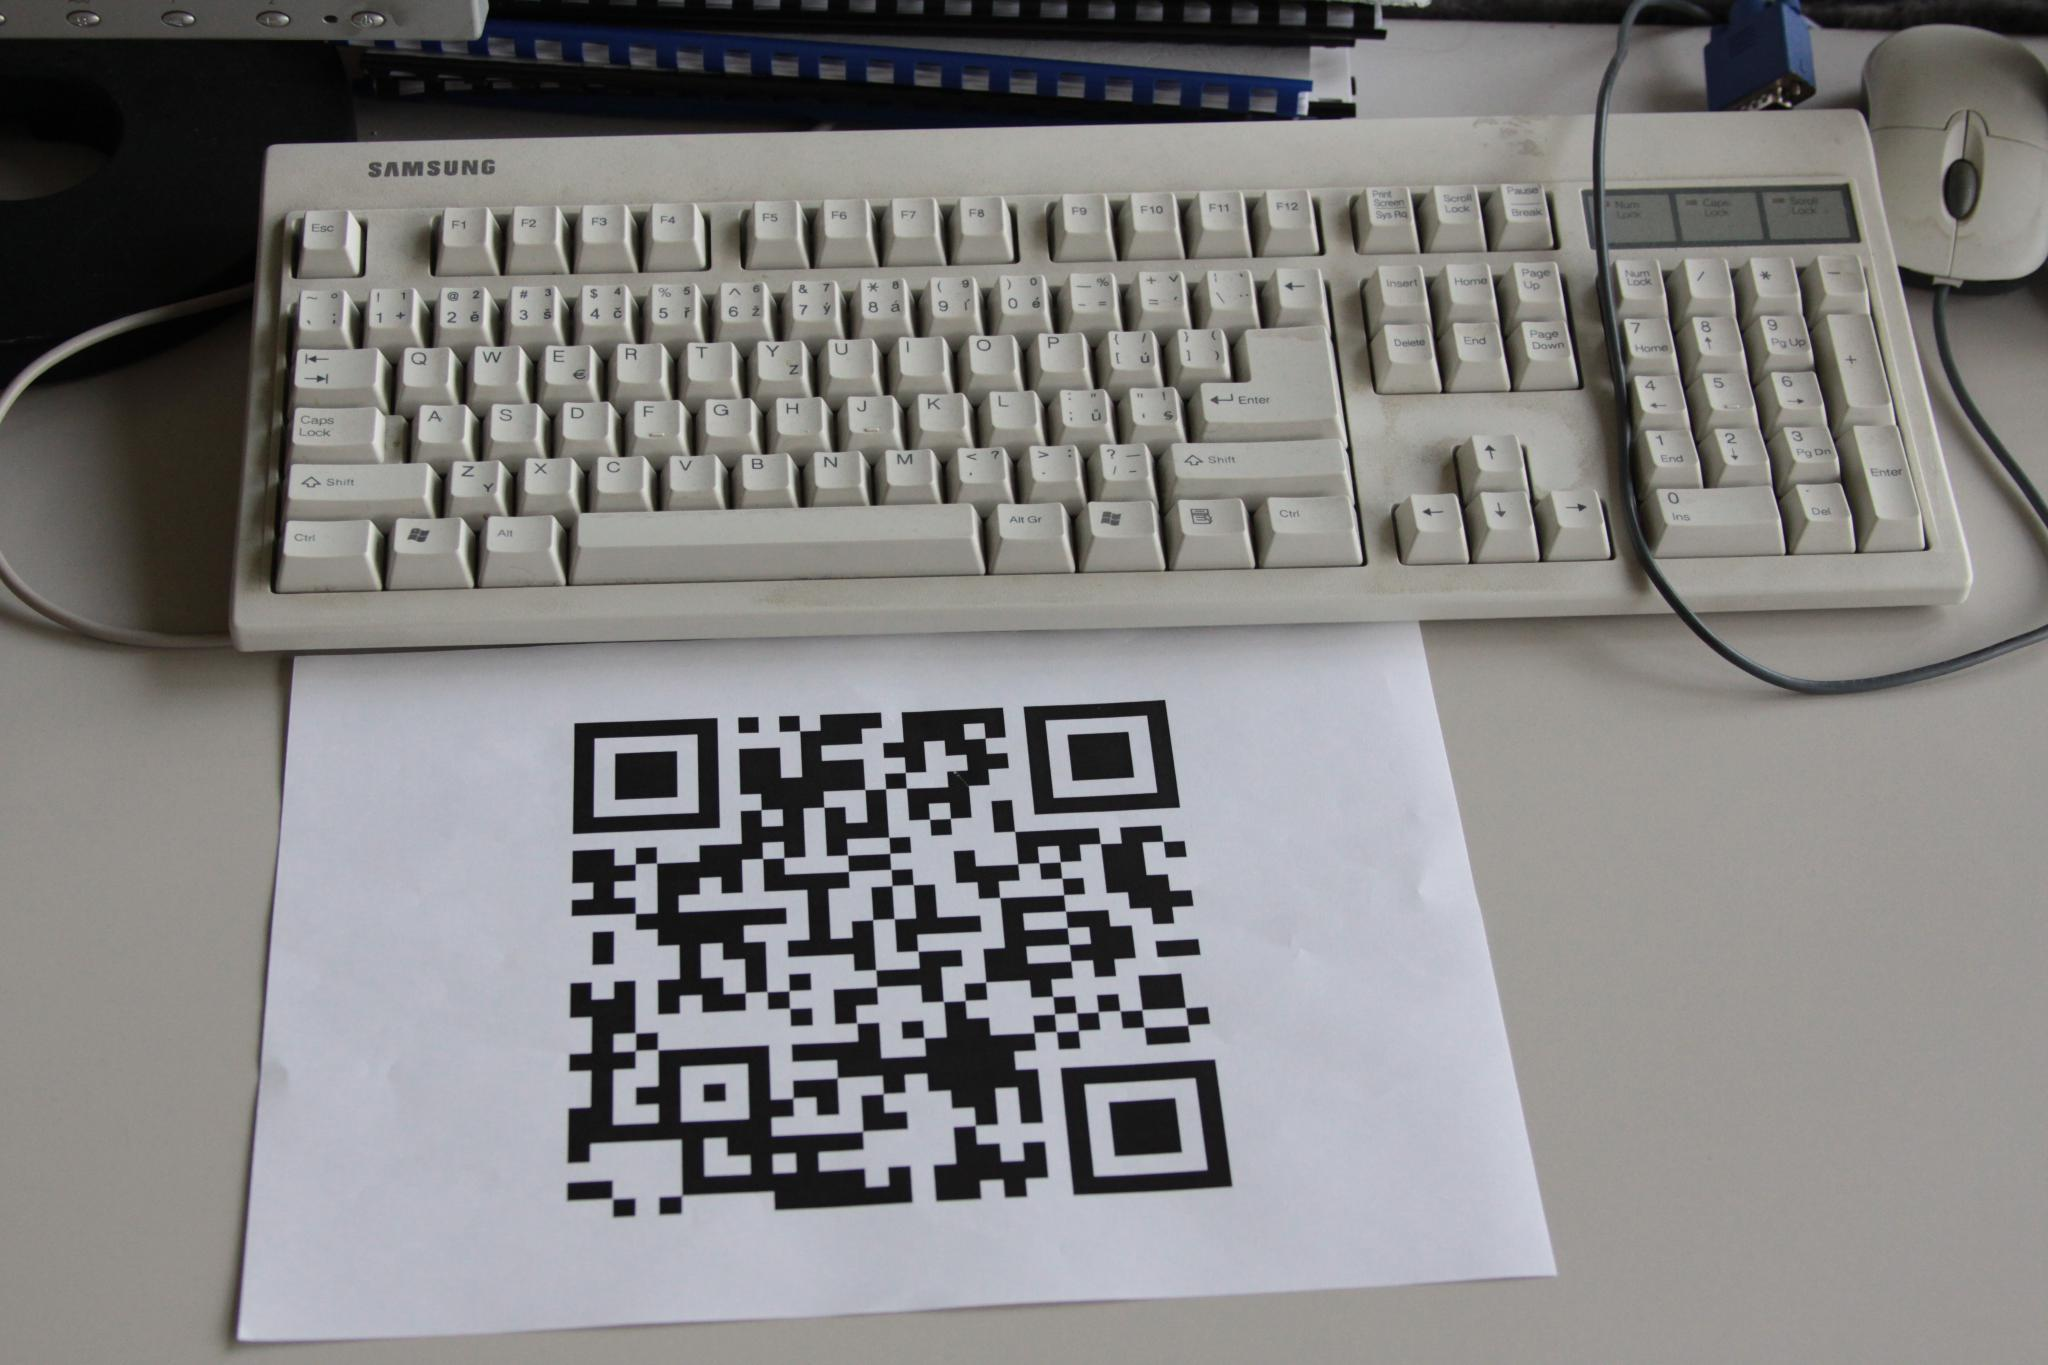Finder pattern: (1051, 1047, 1246, 1210), (1005, 687, 1195, 827), (560, 713, 735, 839)
